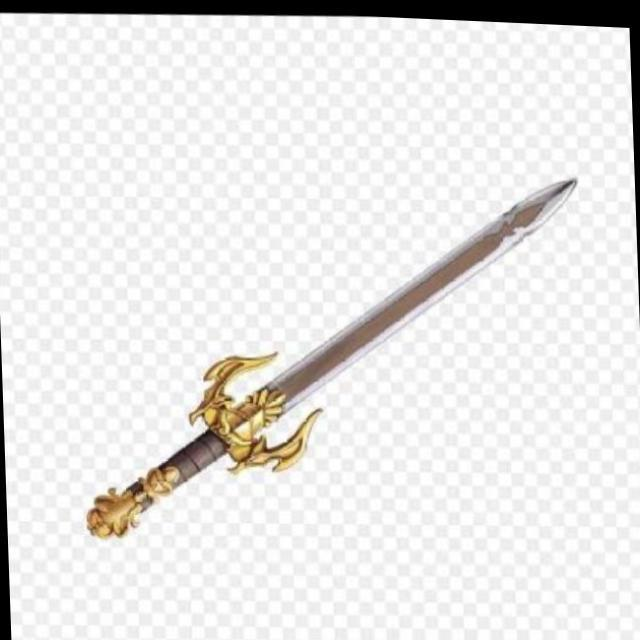weapon: (73, 152, 589, 556)
